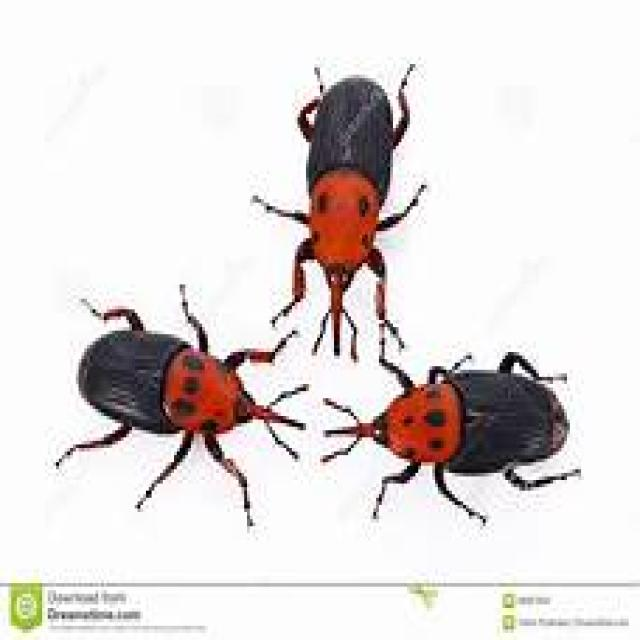Red-palm-weevil: (62, 266, 283, 550), (276, 59, 430, 353), (328, 357, 576, 527)
